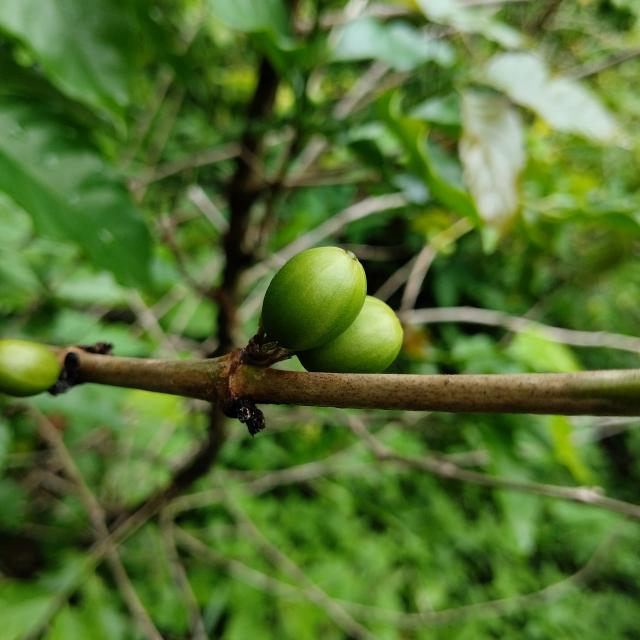green: (261, 246, 367, 351), (297, 296, 404, 373)
